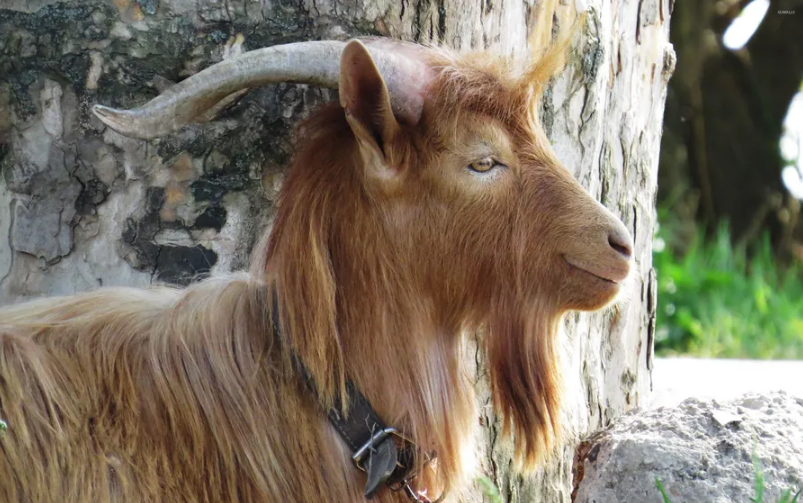goat: (84, 35, 632, 460)
